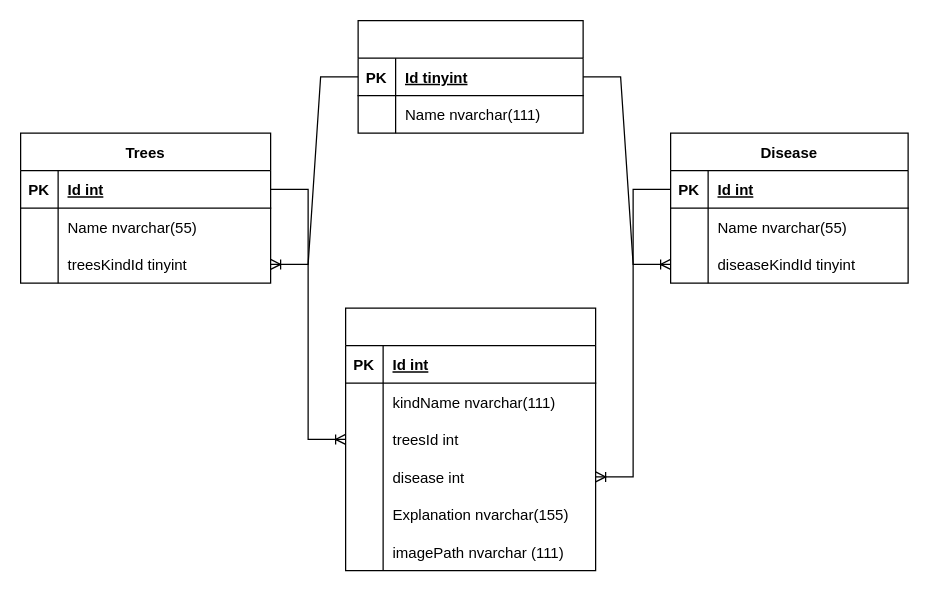
Image size: 929x591. Some labels were removed from this diagram. Here are the shapes that lost their labels. From the top down, the box of each, then its label:
(357, 19, 583, 133): Kind
(344, 307, 596, 571): Table
